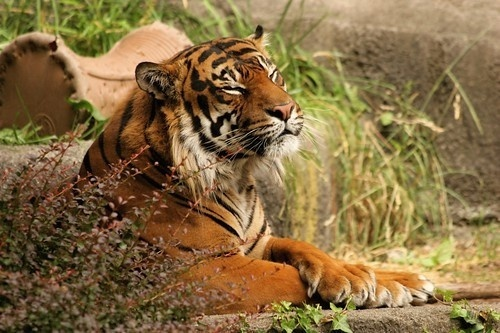tigre: (66, 25, 440, 305)
